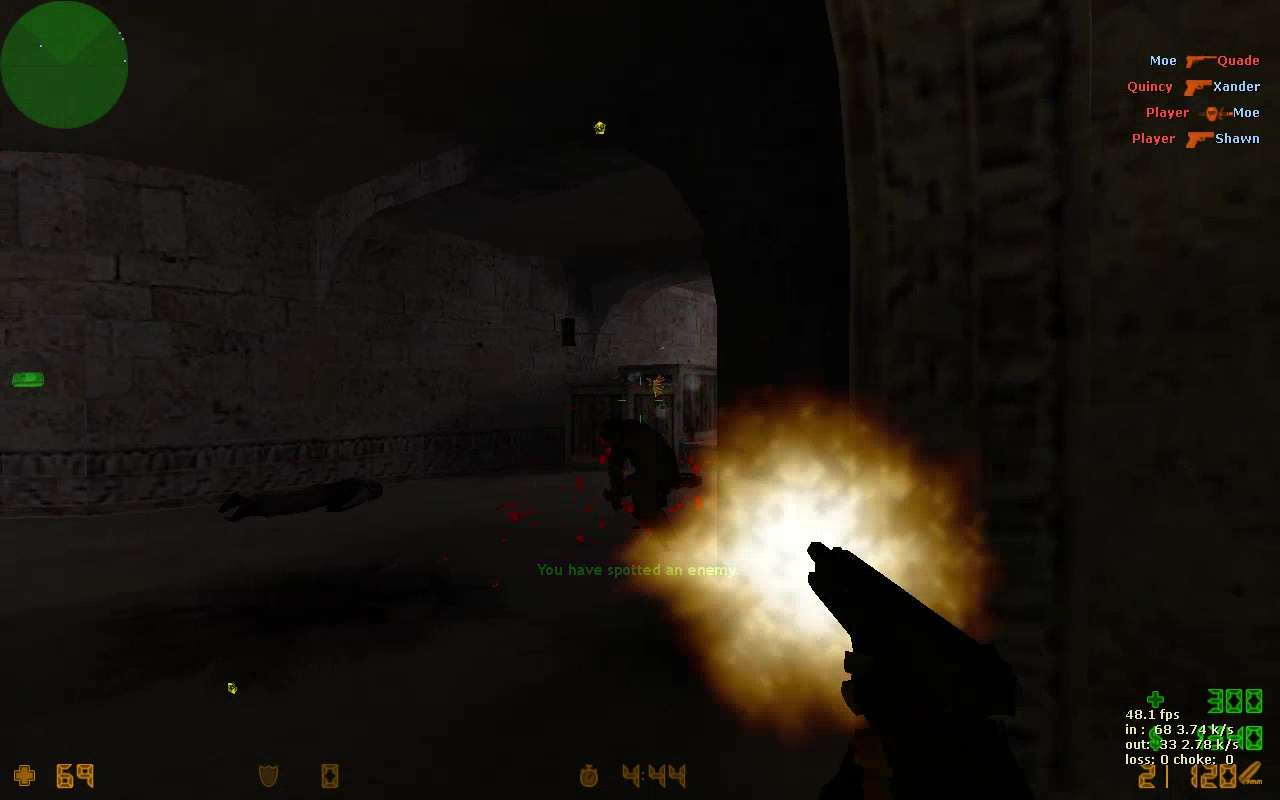ct: (591, 415, 690, 555)
dead: (218, 471, 386, 524)
